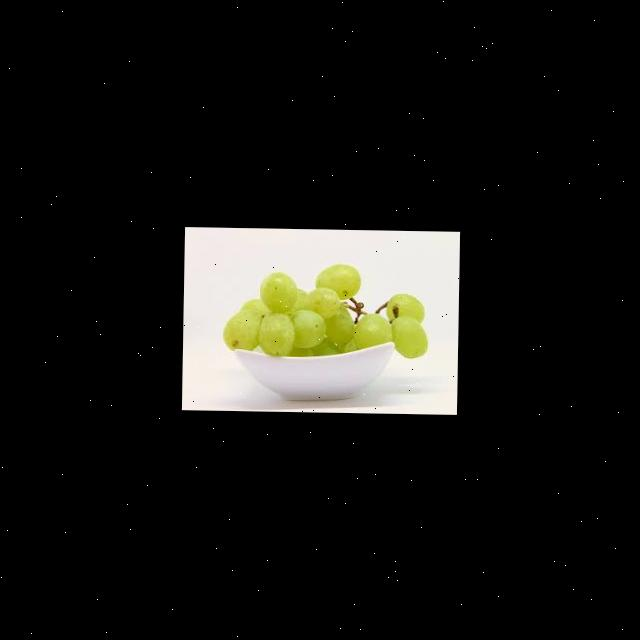grape: (221, 260, 428, 358)
